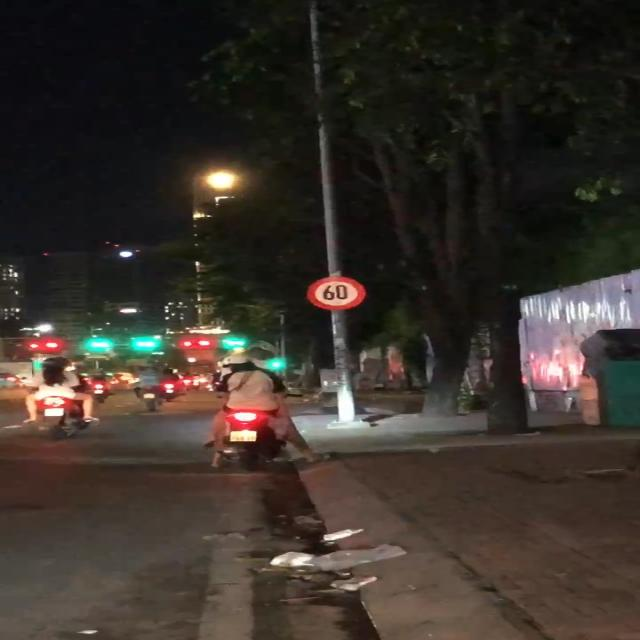Bien bao toc do toi da cho phep: (304, 274, 370, 314)
